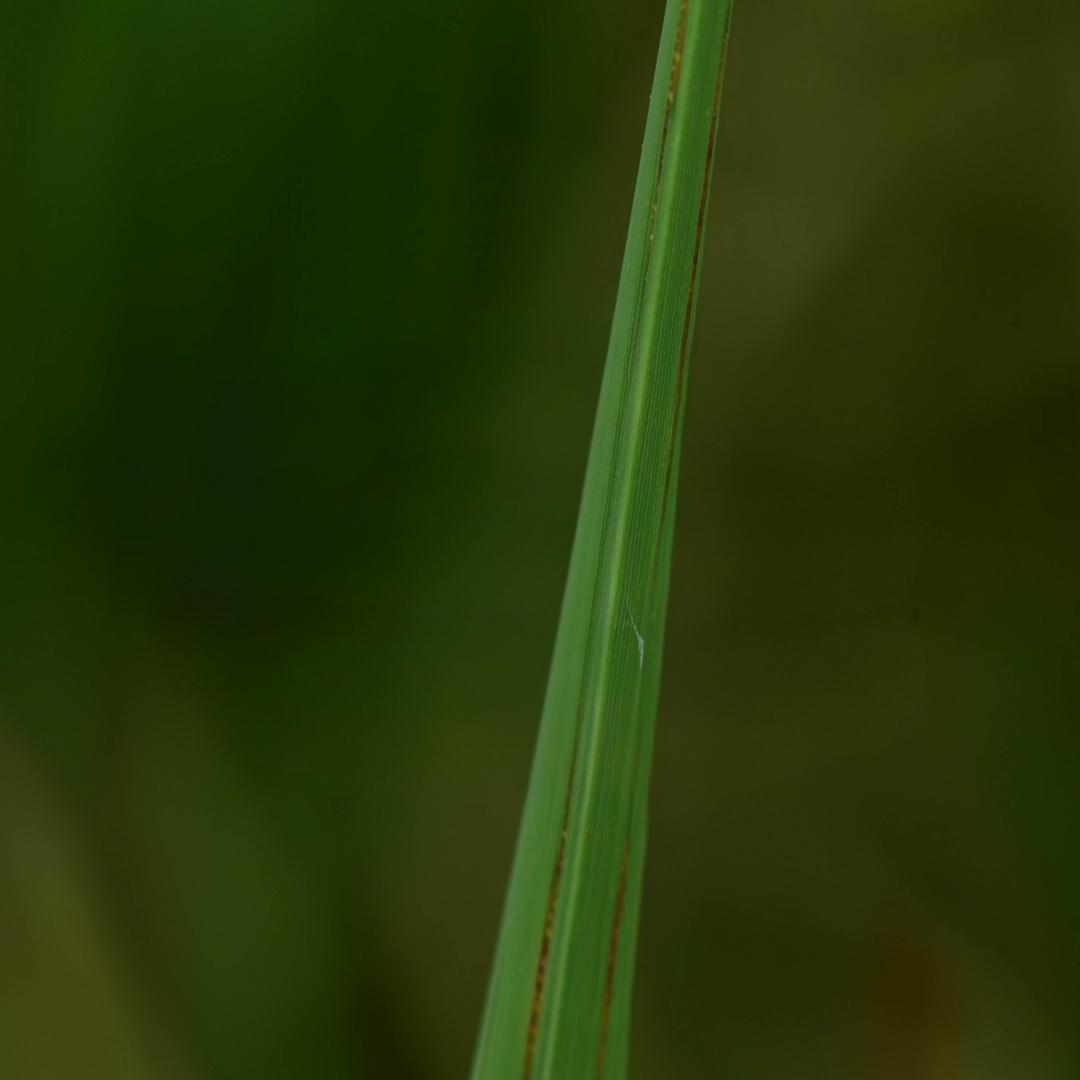BLS: (656, 1, 728, 554), (523, 665, 584, 1079), (644, 0, 689, 285), (596, 803, 631, 1079)
LEAF: (470, 0, 732, 1079)
